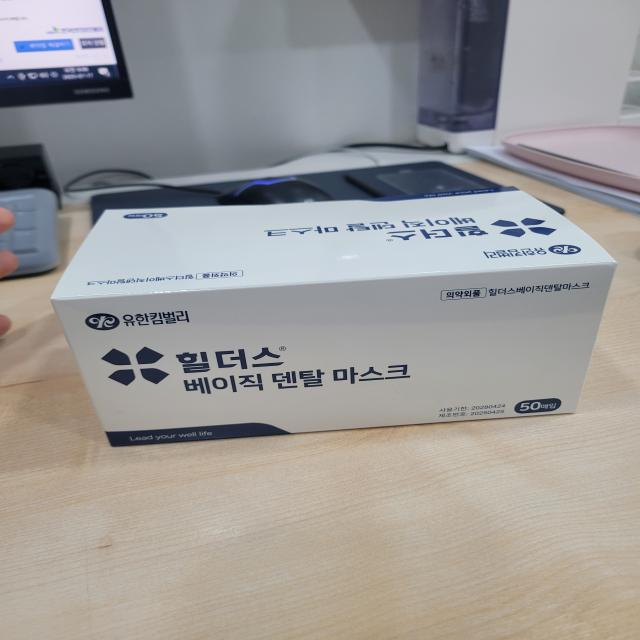mask: (37, 190, 640, 453)
